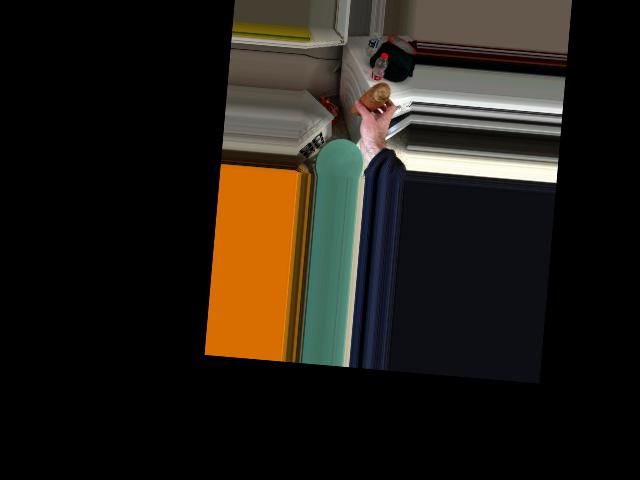sweet_potato: (347, 80, 394, 118)
